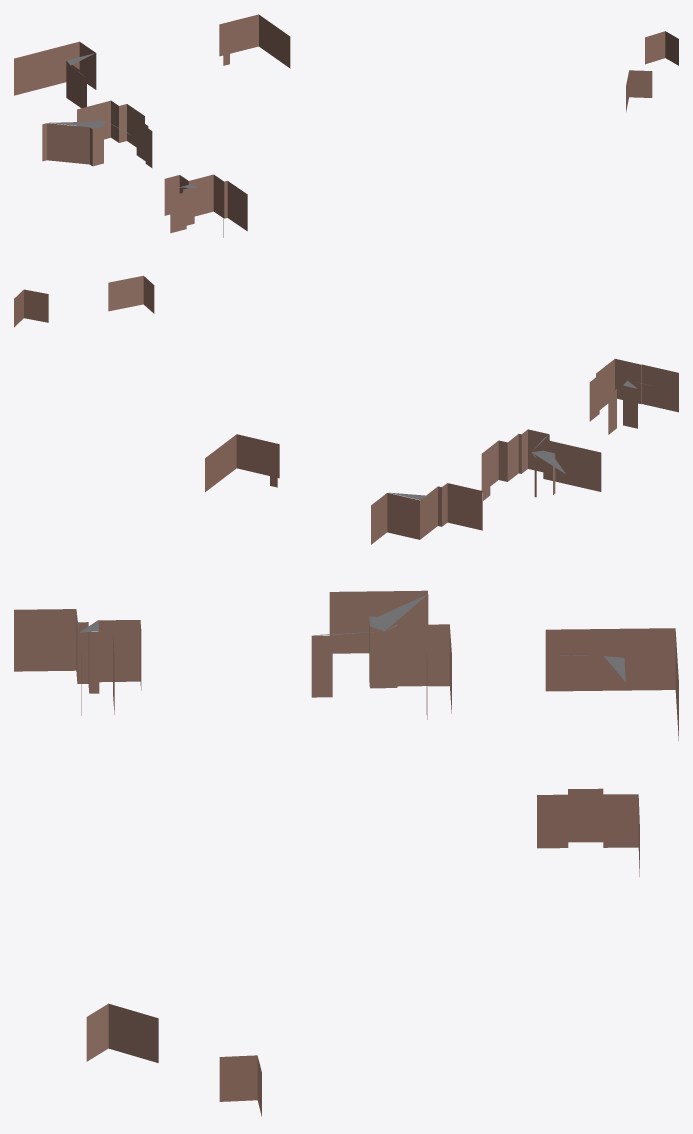
The model's file is c_1645_17819_buildings_residential.glb.
The picture shows the model from 3 angles, top to bottom: view 1: azimuth 30°, elevation 25°; view 2: azimuth 150°, elevation 25°; view 3: azimuth 270°, elevation 25°; orthographic projection. The views are drawn at different scales.
Visible parts, largest first — view 1: geometry_0; view 2: geometry_0; view 3: geometry_0.
Part boxes in pixels (box(x1,y1,x2,y2)): geometry_0: box(14, 14, 678, 237); geometry_0: box(14, 275, 678, 544); geometry_0: box(14, 590, 678, 1116).
Size of the model in its own units: 178 by 11.08 by 107.
